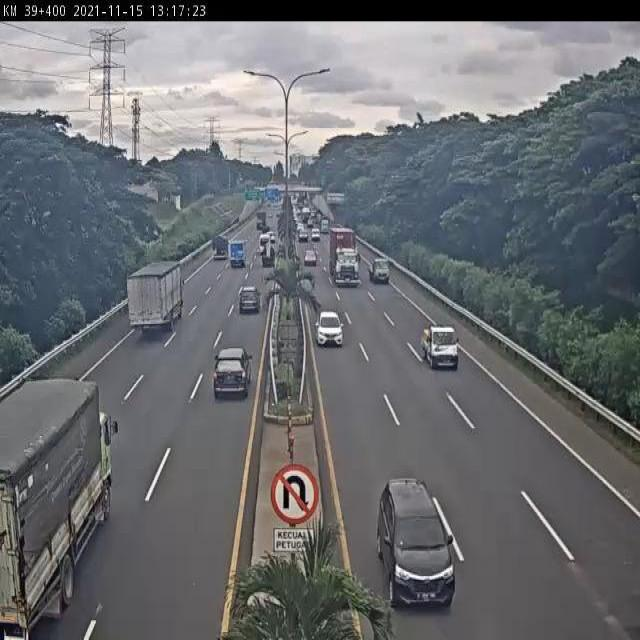car: (373, 476, 458, 619), (212, 344, 253, 400), (315, 309, 345, 351), (238, 284, 263, 317)
truck-m-: (0, 379, 114, 628), (128, 260, 187, 341)
truck-s-: (420, 317, 459, 373), (367, 253, 391, 288), (260, 244, 278, 273)
truck-xl-: (327, 222, 362, 290)
